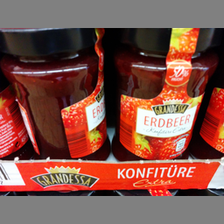jam: (110, 28, 221, 161), (1, 29, 111, 162)
